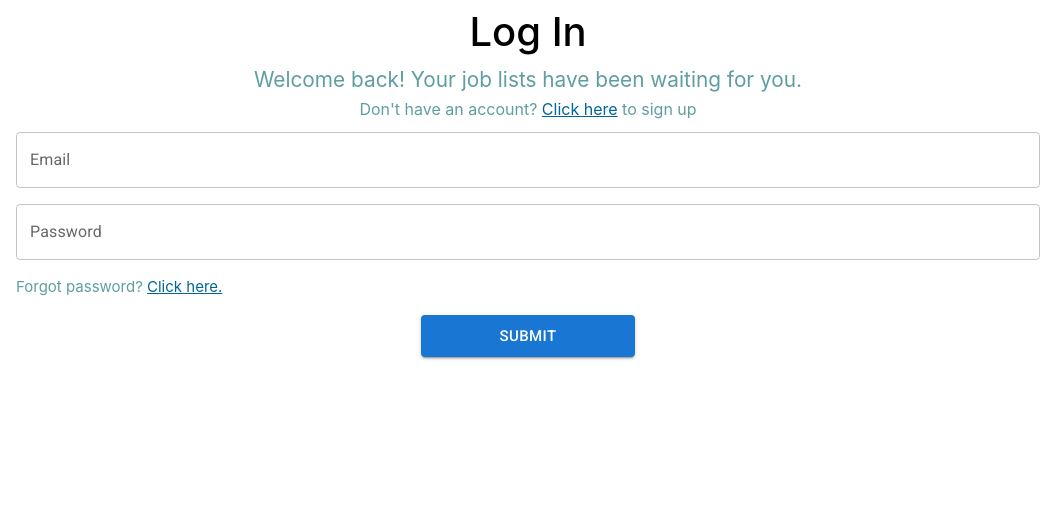
Test: The Login component › clicking the text "Click here" renders an input with the label "Username"
Click the button "Click here". click: (580, 109)
box: left=542, top=97, right=618, bottom=121
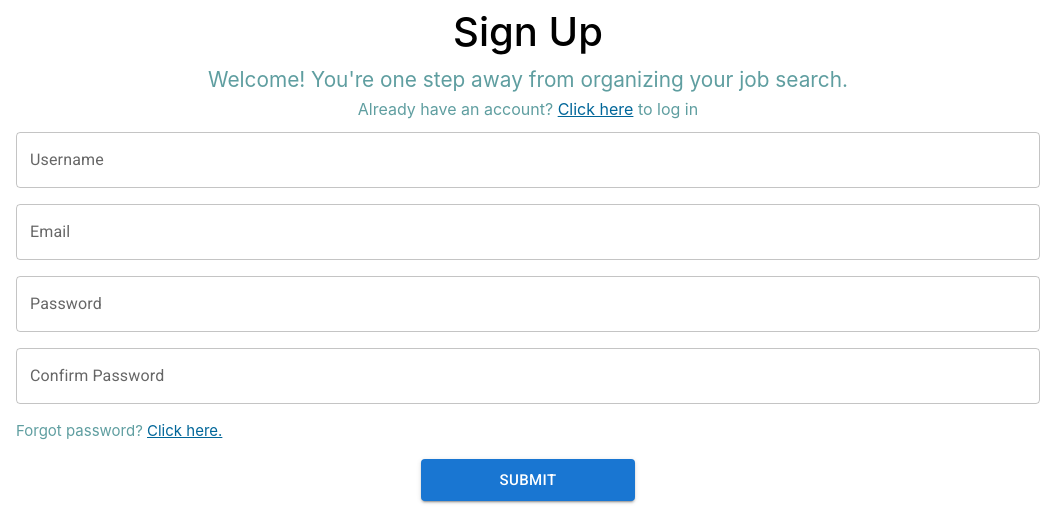
Expected: the field labelled "Username" is shown, left=16, top=132, right=1040, bottom=188
